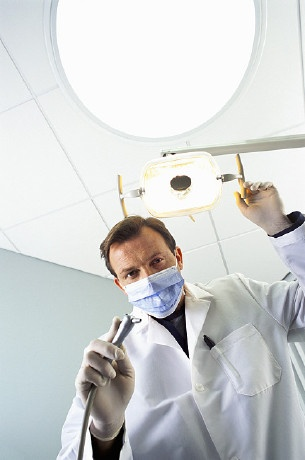Mask: (114, 247, 184, 316)
